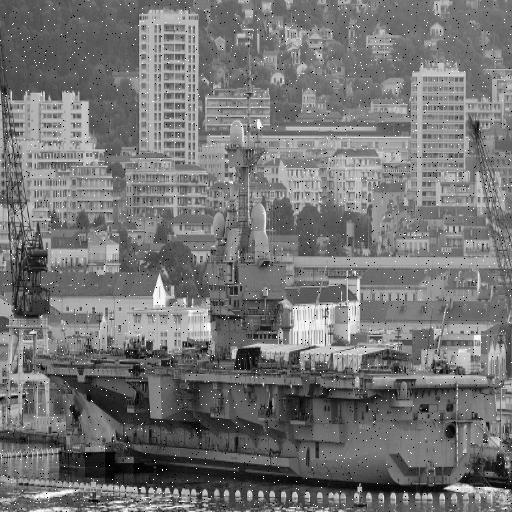Portanaves: (32, 36, 507, 487)
